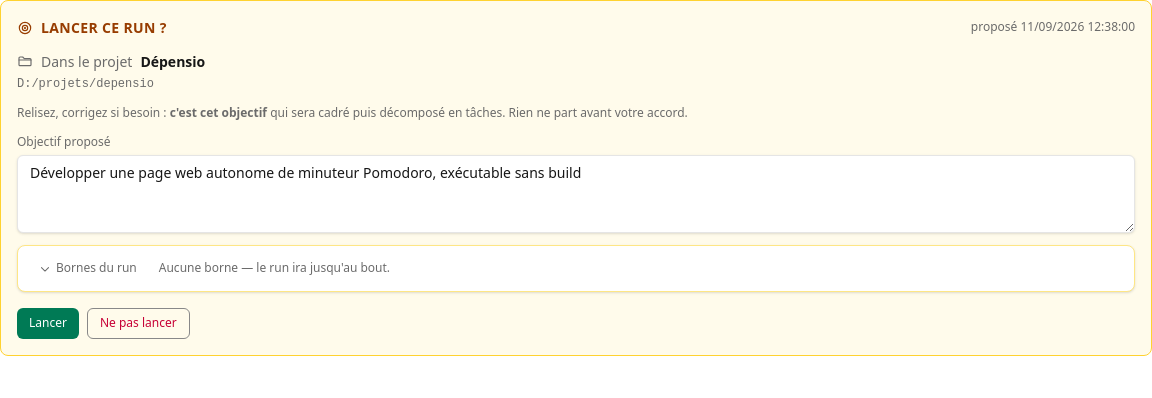
Scenario: ② le geste — accepter, refuser, amender › garde la demande à l'écran quand la décision est refusée par l'API
The width and height of the screenshot is (1152, 398).
Click the button "Lancer".
click(48, 324)  # box [17,308,79,339]
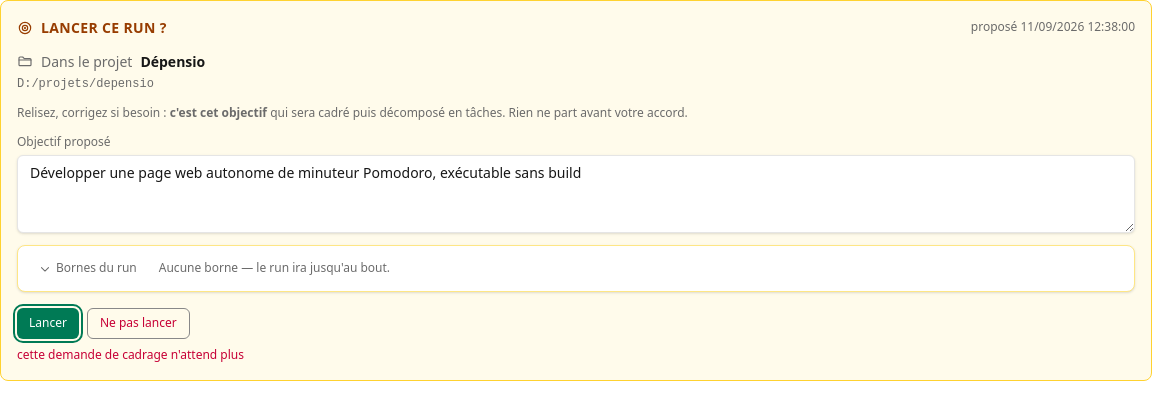
Expected: the text box labelled "Objectif proposé" is shown, [17,155,1135,233]
Now the message "cette demande de cadrage n'attend plus" is shown, box [17,346,244,363]
